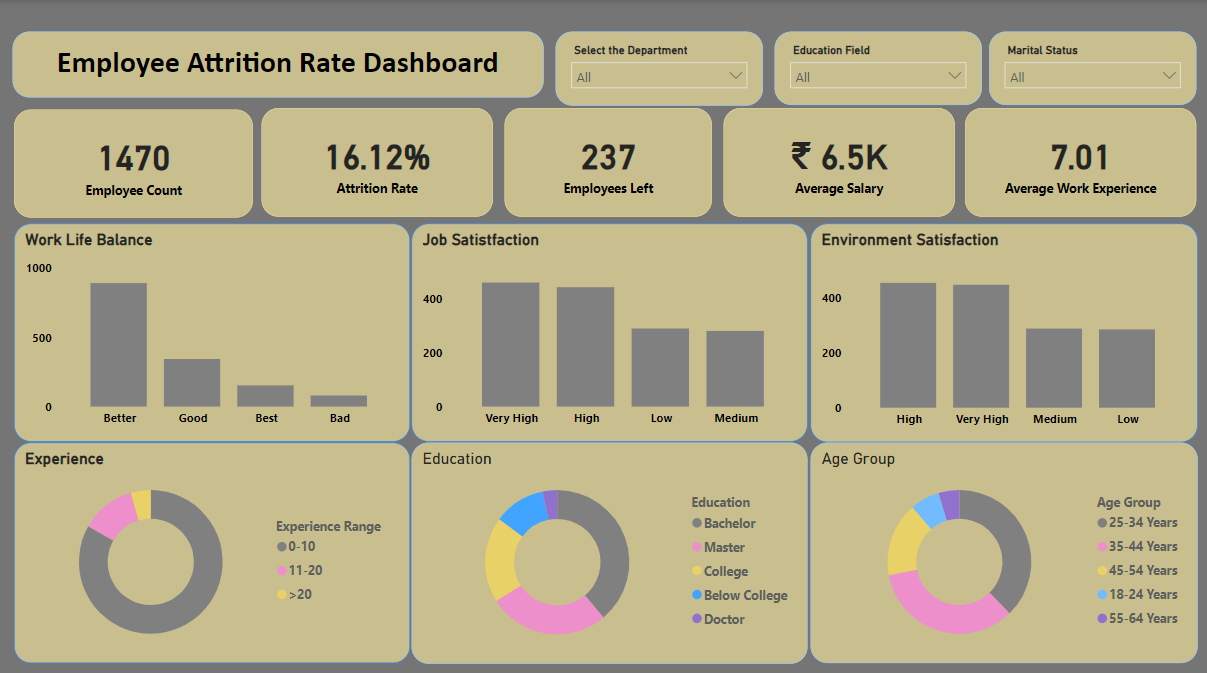

Layout of this report page (visuals, bound fields, positions):
{"tool":"powerbi","page":{"name":"Page 1","canvas":[1280,720],"ordinal":0},"visuals":[{"type":"card","fields":{"Values":["Attrition Data.Employee Count"]},"box":[15.5,115.5,253.6,114.5],"z":0},{"type":"card","fields":{"Values":["Attrition Data.Employees Left"]},"box":[536.7,115,220,115],"z":1000},{"type":"card","fields":{"Values":["Attrition Data.Attrition Rate"]},"box":[278.3,115,245,115],"z":2000},{"type":"columnChart","title":"Work Life Balance","fields":{"Y":["Attrition Data.Employee Count"],"Category":["Attrition Data.WorkLifeBalance"]},"box":[15.6,236.7,420,231.1],"z":3000},{"type":"donutChart","title":"Experience","fields":{"Category":["Attrition Data.Experience Range"],"Y":["Attrition Data.Employee Count"]},"box":[15.4,470,420,233.8],"z":4000},{"type":"textbox","box":[15,33.3,563.3,70],"z":5000},{"type":"slicer","fields":{"Values":["Attrition Data.Department"]},"box":[590,33.3,220,78.3],"z":6000},{"type":"slicer","fields":{"Values":["Attrition Data.EducationField"]},"box":[822.2,33.3,220,77.8],"z":7000},{"type":"card","fields":{"Values":["Attrition Data.Average Salary"]},"box":[768.3,115,245,115],"z":8000},{"type":"columnChart","title":"Job Satistfaction","fields":{"Y":["Attrition Data.Employee Count"],"Category":["Attrition Data.JobSatisfaction"]},"box":[436.7,236.7,420,231.1],"z":9000},{"type":"columnChart","title":"Environment Satisfaction","fields":{"Category":["Attrition Data.EnvironmentSatisfaction"],"Y":["Attrition Data.Employee Count"]},"box":[860,236.9,410.8,232.3],"z":10000},{"type":"donutChart","title":"Education","fields":{"Category":["Attrition Data.Education"],"Y":["Attrition Data.Employee Count"]},"box":[437.3,469.1,420,234.5],"z":11000},{"type":"donutChart","title":"Age Group","fields":{"Category":["Attrition Data.Age Group"],"Y":["Attrition Data.Employee Count"]},"box":[860,468.5,410.8,233.8],"z":12000},{"type":"card","fields":{"Values":["Attrition Data.Average Work Experience"]},"box":[1025,115,245,115],"z":13000},{"type":"slicer","fields":{"Values":["Attrition Data.MaritalStatus"]},"box":[1050,33.3,220,77.8],"z":14000}]}

Visuals, with their boxes in screenshot pixels (x1, y1, x2, y2), scaled from the page's 1280x720 canvas onto the 1207x673 screenshot:
card - Attrition Data.Employee Count: 15, 108, 254, 215
card - Attrition Data.Employees Left: 506, 107, 714, 215
card - Attrition Data.Attrition Rate: 262, 107, 493, 215
"Work Life Balance" columnChart: 15, 221, 411, 437
"Experience" donutChart: 15, 439, 411, 658
textbox: 14, 31, 545, 97
slicer - Attrition Data.Department: 556, 31, 764, 104
slicer - Attrition Data.EducationField: 775, 31, 983, 104
card - Attrition Data.Average Salary: 724, 107, 956, 215
"Job Satistfaction" columnChart: 412, 221, 808, 437
"Environment Satisfaction" columnChart: 811, 221, 1198, 439
"Education" donutChart: 412, 438, 808, 658
"Age Group" donutChart: 811, 438, 1198, 656
card - Attrition Data.Average Work Experience: 967, 107, 1198, 215
slicer - Attrition Data.MaritalStatus: 990, 31, 1198, 104
